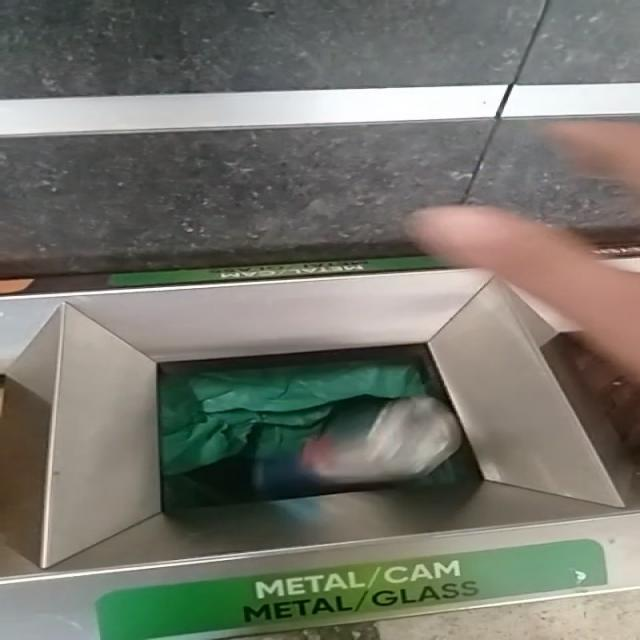Bin: (1, 269, 639, 640)
Metal: (301, 398, 463, 484)
